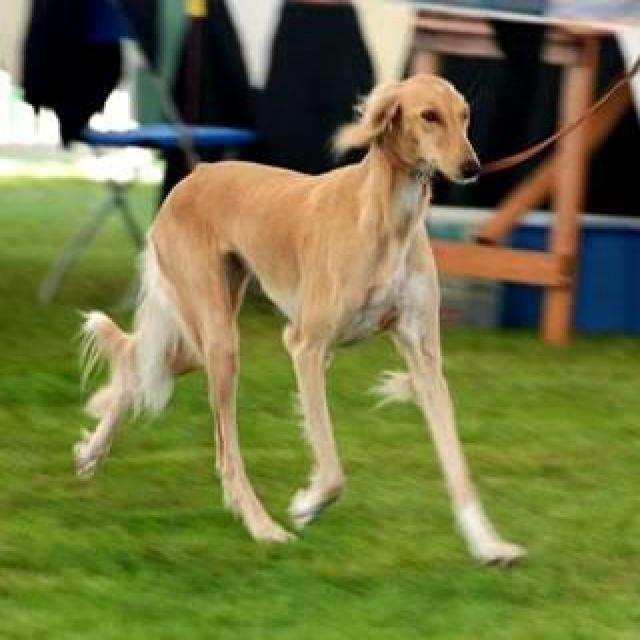saluki: (72, 74, 528, 572)
